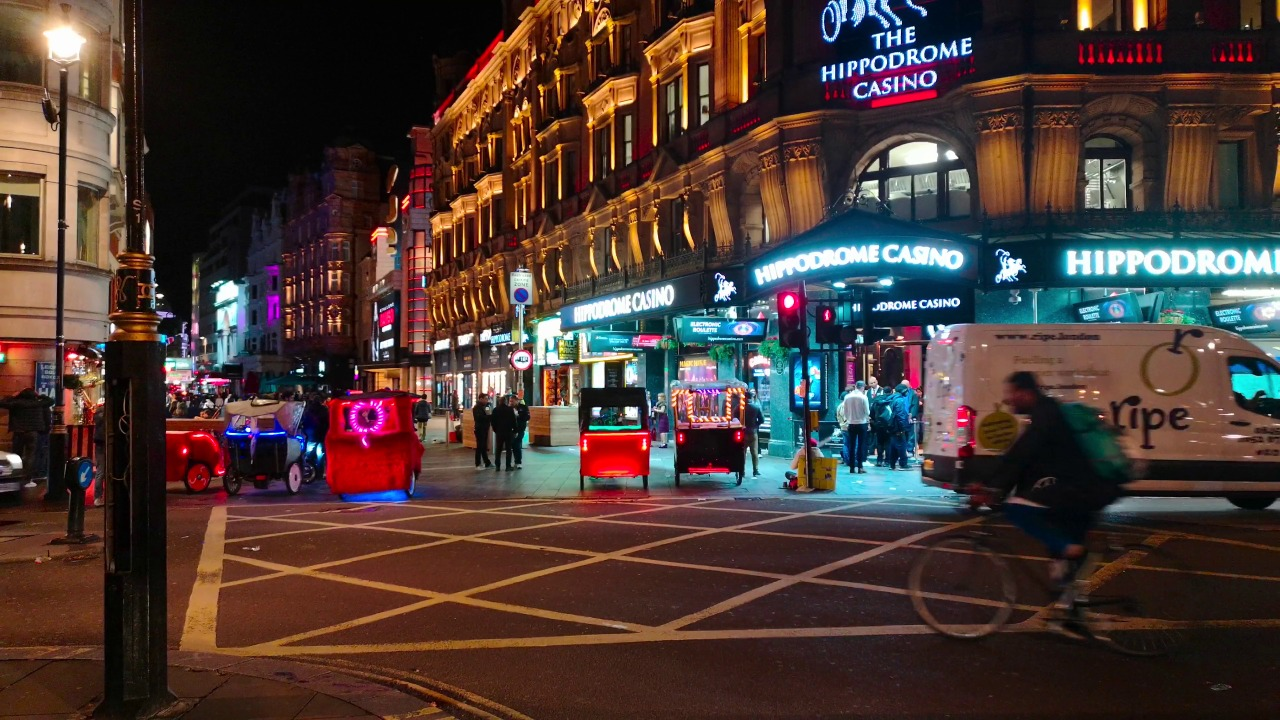car: (919, 322, 1280, 516), (222, 392, 331, 498), (325, 404, 427, 500), (576, 388, 655, 492), (667, 381, 748, 481), (151, 411, 229, 495), (1, 441, 37, 513)
person: (916, 366, 1201, 650), (1, 381, 46, 490), (784, 435, 831, 491), (738, 389, 766, 479), (845, 381, 868, 478), (870, 383, 895, 467), (893, 375, 927, 431), (889, 383, 910, 472), (90, 403, 107, 511), (492, 402, 514, 474), (471, 396, 490, 474), (511, 394, 526, 471), (752, 382, 767, 457), (655, 392, 673, 451), (412, 394, 433, 444), (643, 388, 657, 447), (840, 392, 851, 464), (447, 385, 463, 419), (865, 375, 886, 400)
